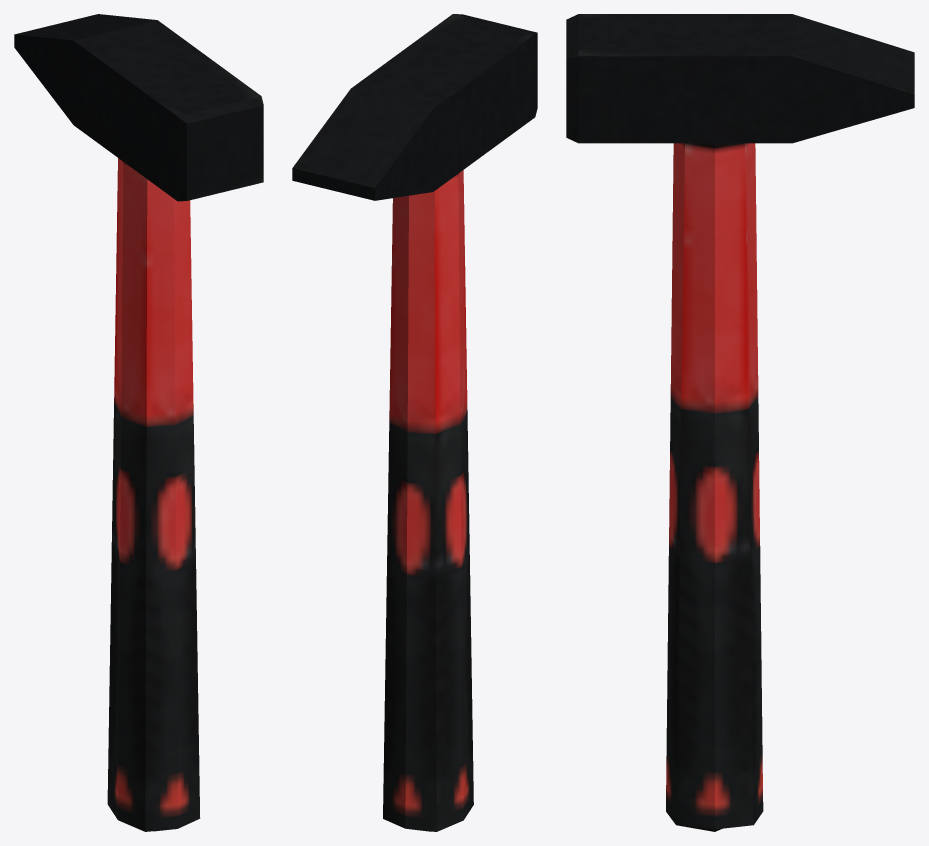
The model's file is Hammer.fbx.
The picture shows the model from 3 angles, left to right: view 1: azimuth 30°, elevation 25°; view 2: azimuth 150°, elevation 25°; view 3: azimuth 270°, elevation 25°; orthographic projection. The views are drawn at different scales.
Parts seen in each view (by area): view 1: Hammer; view 2: Hammer; view 3: Hammer.
Boxes of the visible parts, box(x1,y1,x2,y2) form: Hammer: box(14, 14, 263, 831); Hammer: box(292, 14, 537, 831); Hammer: box(566, 14, 914, 831).
Size of the model in its own units: 56.63 by 498 by 197.
1 material, 1 textured.
